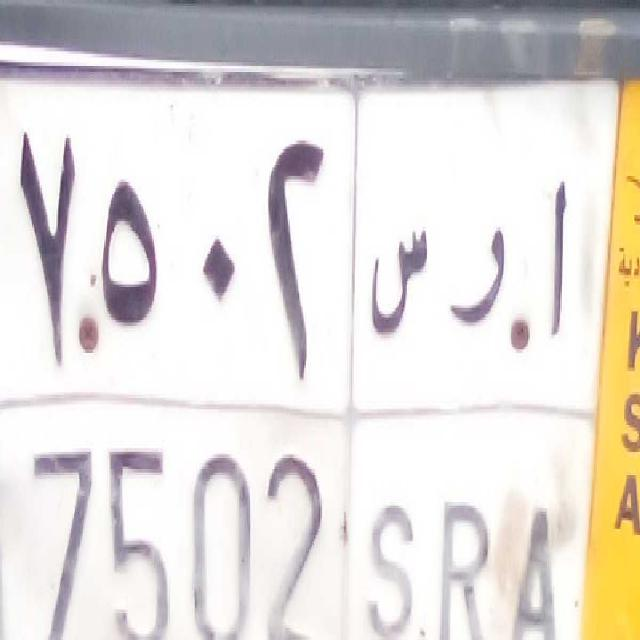license_plate: (0, 403, 589, 640)
